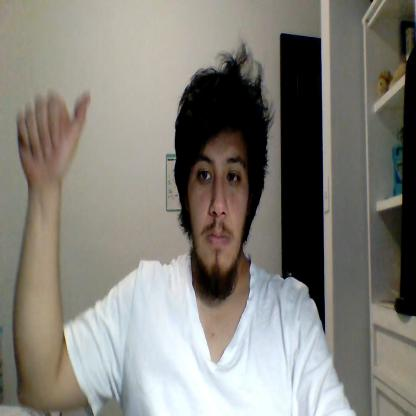A: (17, 88, 91, 184)
